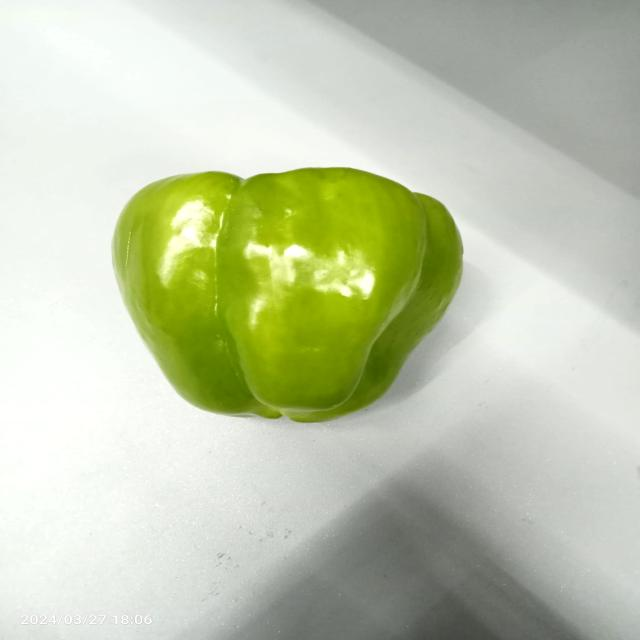bell pepper: (103, 150, 483, 440)
